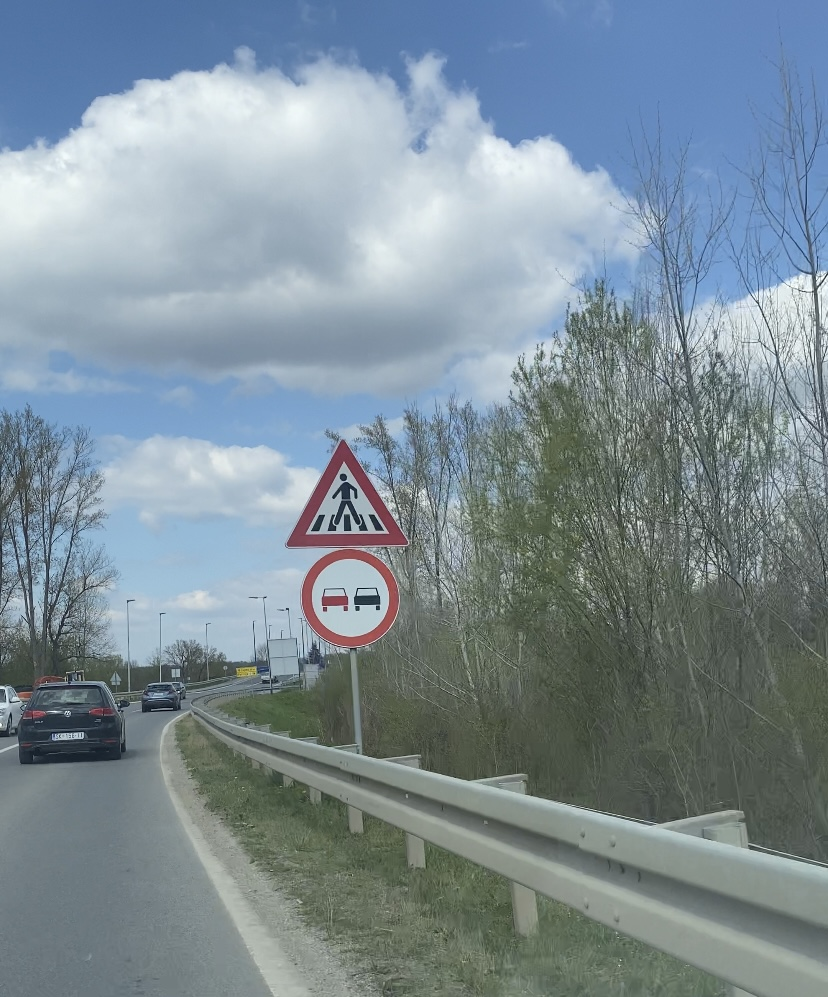Približavanje pješačkom prijelazu: (285, 439, 410, 549)
Zabrana pretjecanja: (301, 548, 400, 648)
